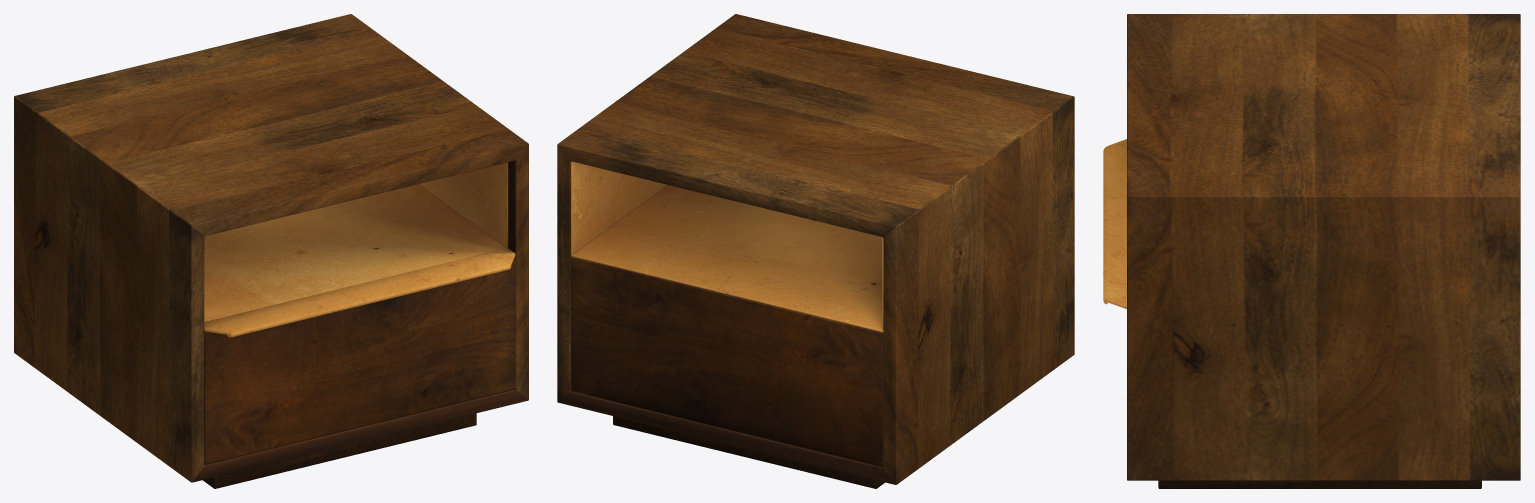
Rendered from Bedside.glb.
The picture shows the model from 3 angles, left to right: view 1: azimuth 30°, elevation 25°; view 2: azimuth 150°, elevation 25°; view 3: azimuth 270°, elevation 25°; orthographic projection. The views are drawn at different scales.
Visible parts, largest first — view 1: MANGO_WOOD, BRASS; view 2: MANGO_WOOD, BRASS; view 3: MANGO_WOOD, BRASS.
Boxes of the visible parts, left/top/right/bottom form: MANGO_WOOD: left=14, top=14, right=528, bottom=488; BRASS: left=204, top=162, right=515, bottom=337; MANGO_WOOD: left=557, top=14, right=1074, bottom=488; BRASS: left=571, top=161, right=883, bottom=332; MANGO_WOOD: left=1127, top=14, right=1520, bottom=488; BRASS: left=1103, top=139, right=1126, bottom=308.
Size of what is drawn, in the model's own units: 50.5 by 40.44 by 48.75.
Materials: 2 (2 with a texture image).
